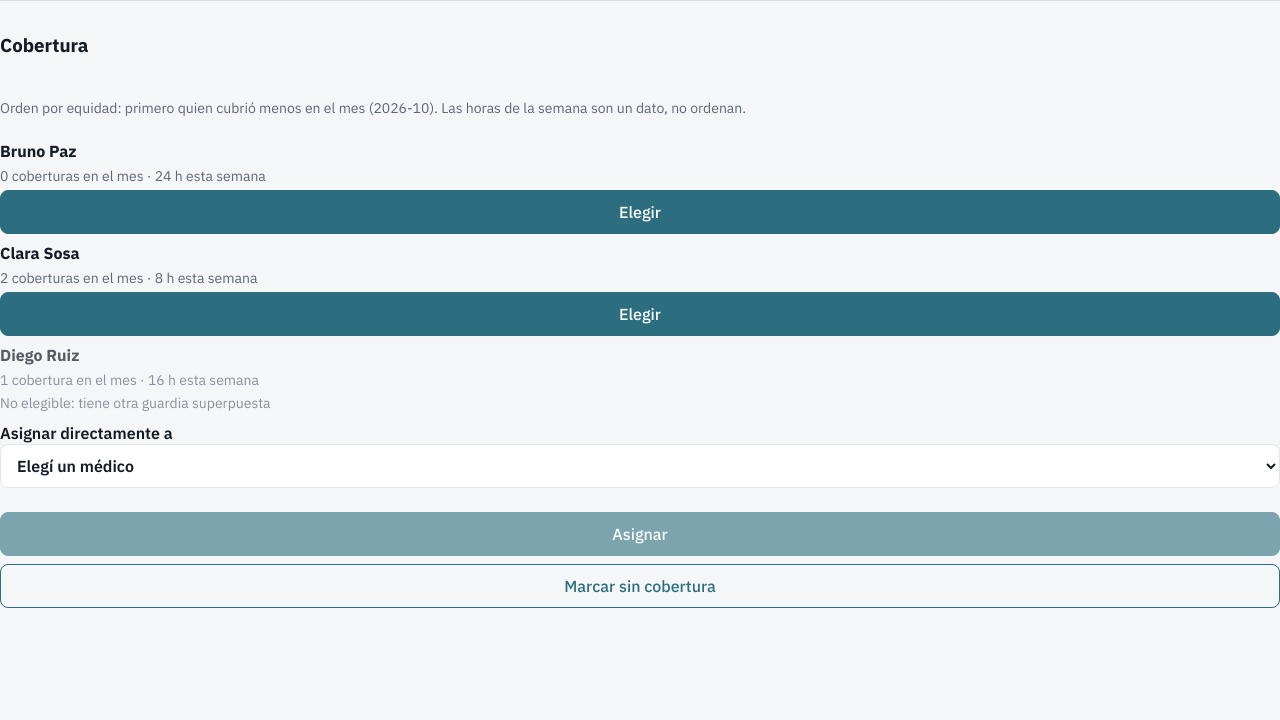
Test case: PanelCobertura › si el turno ya tiene asignado, ofrece reasignar de forma explícita
The image size is (1280, 720).
Click the button "Elegir" below "Clara Sosa": click(640, 314) [0,292,1279,336]
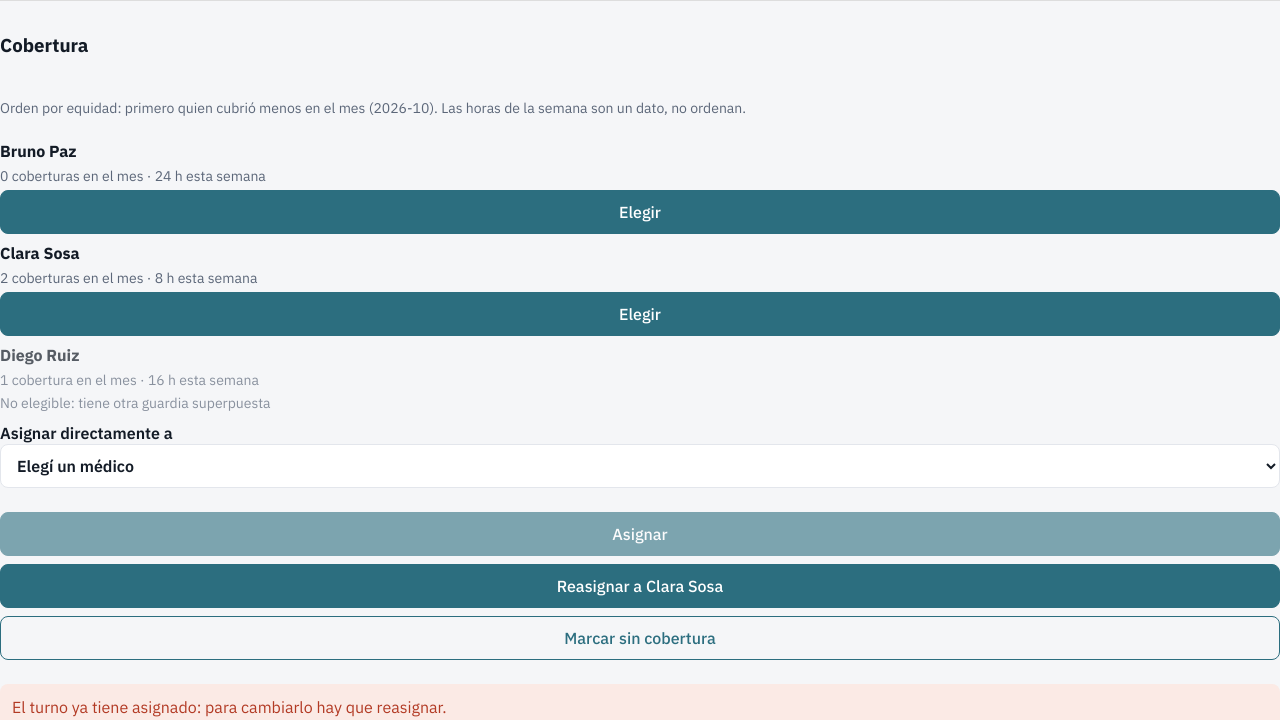
Check: the message shows "hay que reasignar", box [12,697,447,717]
Click the button "Reasignar a Clara Sosa": click(640, 586) [0,564,1279,608]
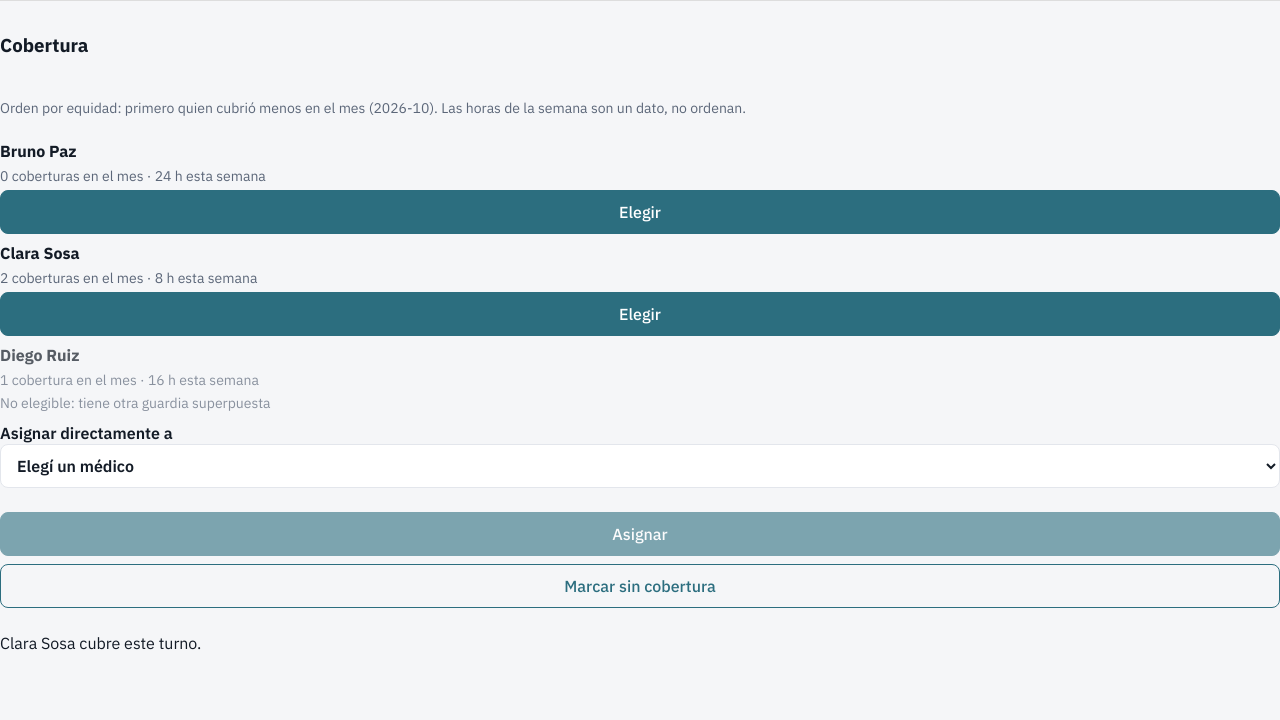
Check: the message shows "Clara Sosa", box [0,633,201,653]
